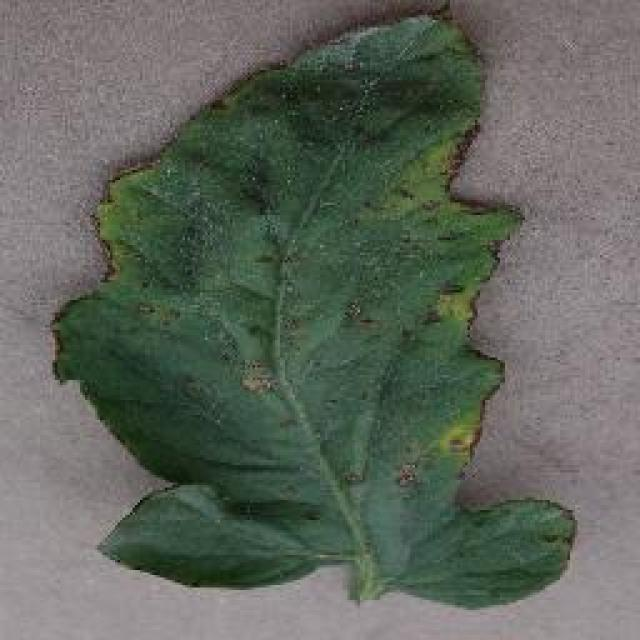Tomato bacterial spot leaf: (54, 14, 586, 616)
